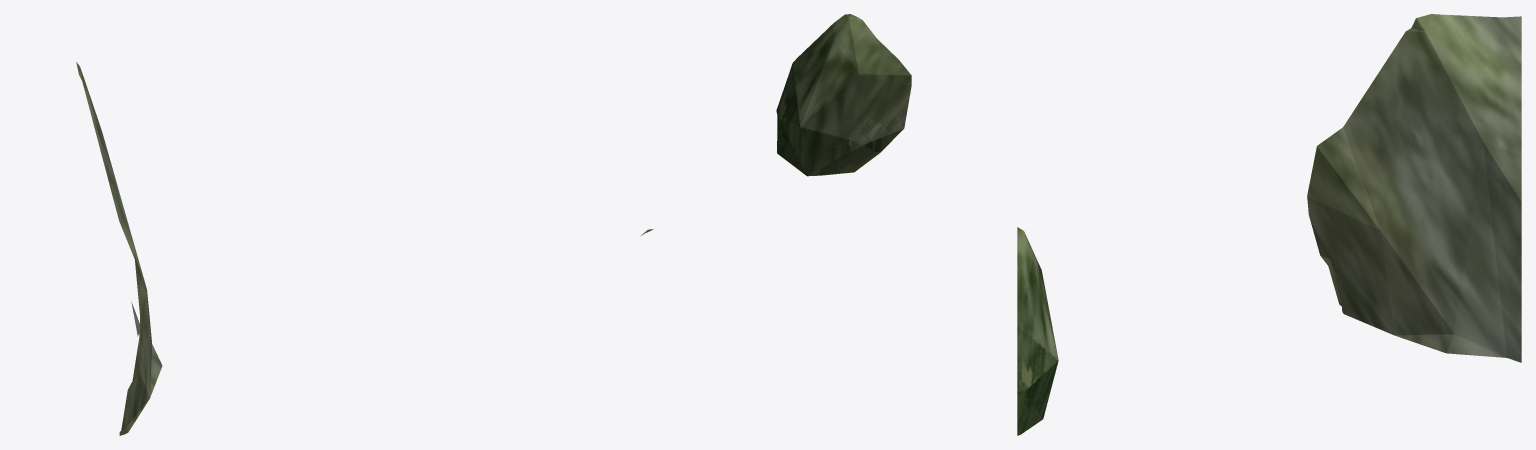
The picture shows the model from 3 angles, left to right: view 1: azimuth 30°, elevation 25°; view 2: azimuth 150°, elevation 25°; view 3: azimuth 270°, elevation 25°; orthographic projection. The views are drawn at different scales.
Bounding box in the file's own units: 2.52 × 1.91 × 2.95.
Materials: 1 (1 with a texture image).
